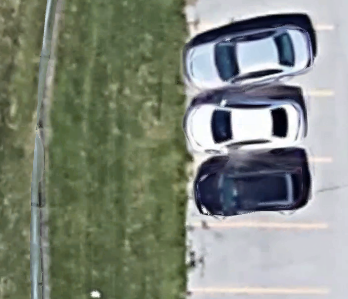Occupied: (193, 27, 333, 95), (194, 93, 332, 160), (194, 160, 328, 227)
Vacant: (193, 226, 327, 292)
